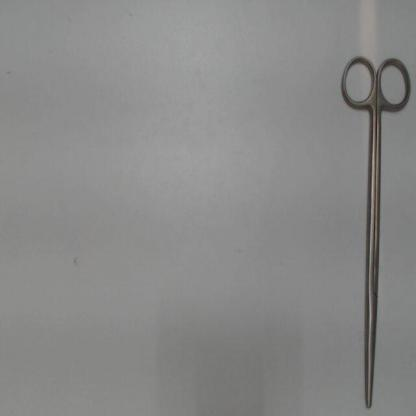9 Metzenbaum Scissors: (340, 48, 413, 412)
